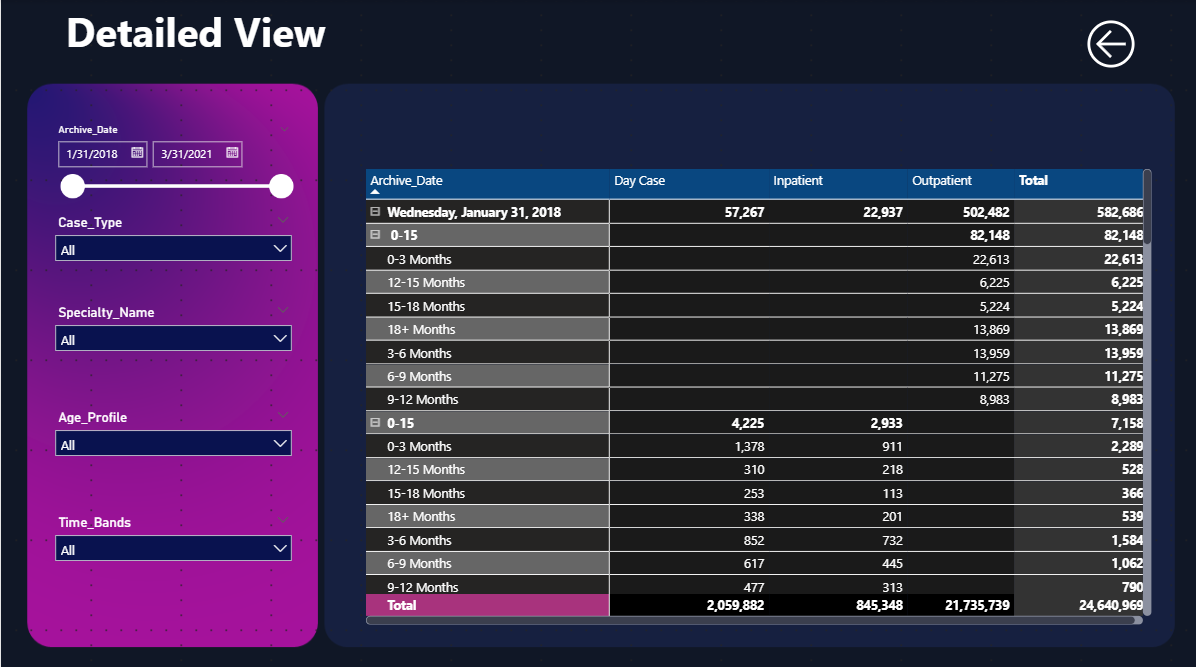

The dashboard page shown, as its layout file describes it:
{"tool":"powerbi","page":{"name":"Detail","canvas":[1280,720],"ordinal":1},"visuals":[{"type":"slicer","fields":{"Values":["All Data.Archive_Date"]},"box":[48,128,272,96],"z":0},{"type":"slicer","fields":{"Values":["All Data.Case_Type"]},"box":[48,224,272,96],"z":1000},{"type":"slicer","fields":{"Values":["All Data.Specialty_Name"]},"box":[48,320,272,112],"z":2000},{"type":"textbox","box":[64,0,416,96],"z":3000},{"type":"slicer","fields":{"Values":["All Data.Age_Profile"]},"box":[48,432,272,112],"z":4000},{"type":"slicer","fields":{"Values":["All Data.Time_Bands"]},"box":[48,544,272,112],"z":5000},{"type":"pivotTable","fields":{"Rows":["All Data.Archive_Date","All Data.Age_Profile","All Data.Time_Bands"],"Columns":["All Data.Case_Type"],"Values":["Sum(All Data.Total)"]},"box":[384,176,848,496],"z":6000},{"type":"actionButton","box":[1152,16,128,64],"z":7000}]}

Visuals, with their boxes in screenshot pixels (x1, y1, x2, y2), scaled from the page's 1280x720 canvas onto the 1196x667 screenshot:
slicer - All Data.Archive_Date: 45,119,299,208
slicer - All Data.Case_Type: 45,208,299,296
slicer - All Data.Specialty_Name: 45,296,299,400
textbox: 60,0,448,89
slicer - All Data.Age_Profile: 45,400,299,504
slicer - All Data.Time_Bands: 45,504,299,608
pivotTable - All Data.Archive_Date x All Data.Age_Profile: 359,163,1151,623
actionButton: 1076,15,1195,74
